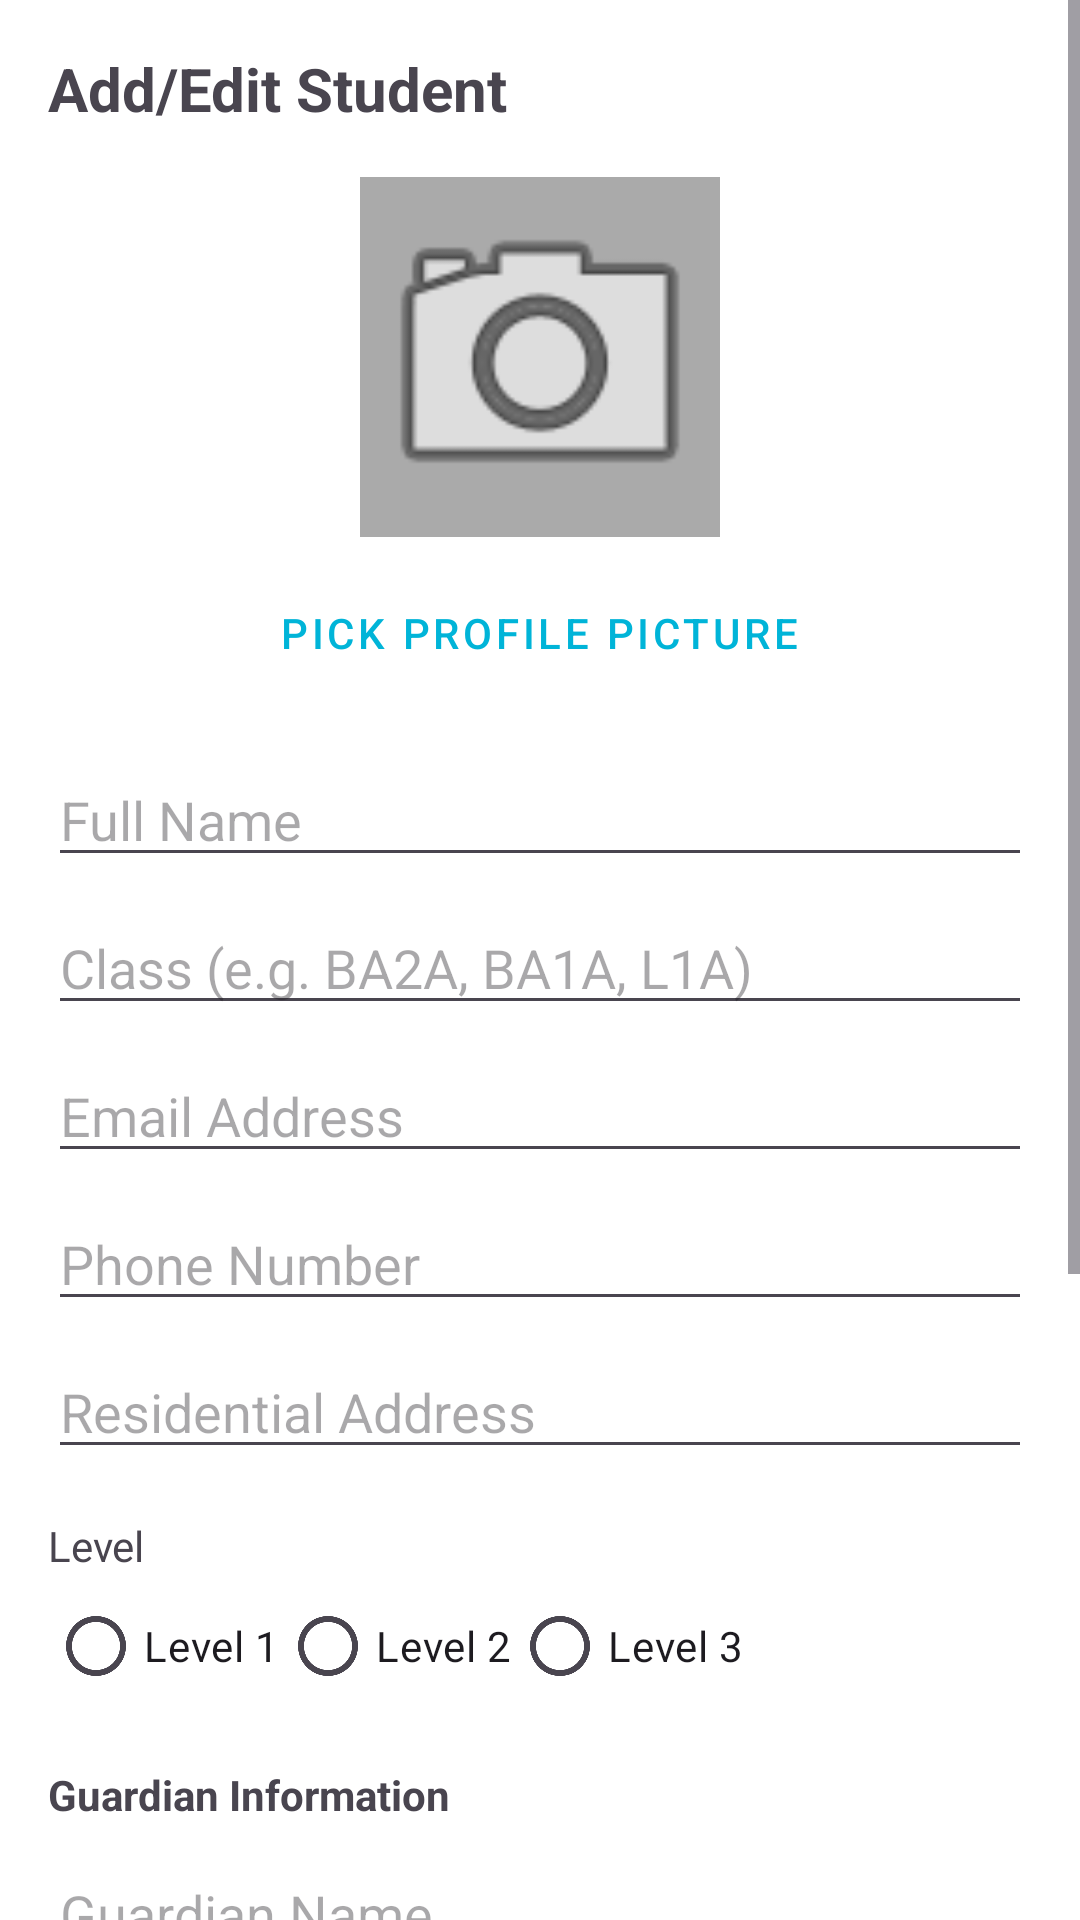

Point at icon controls on the screen. Image size 1080 × 1920, points as (x,y).
camera: (540,357)
